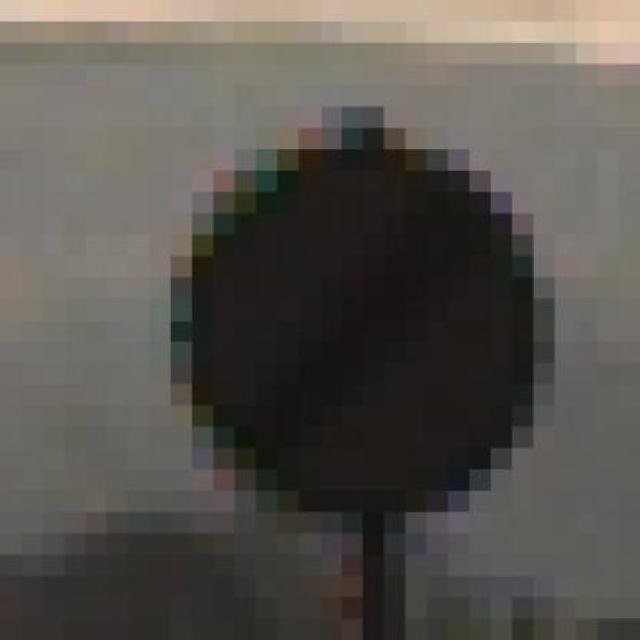End of all speed and passing limits: (129, 64, 576, 533)
